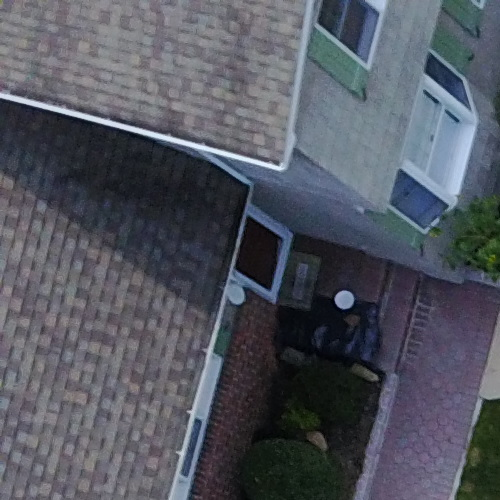container: (326, 289, 361, 314)
